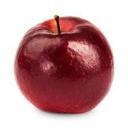apple: (17, 16, 113, 114)
